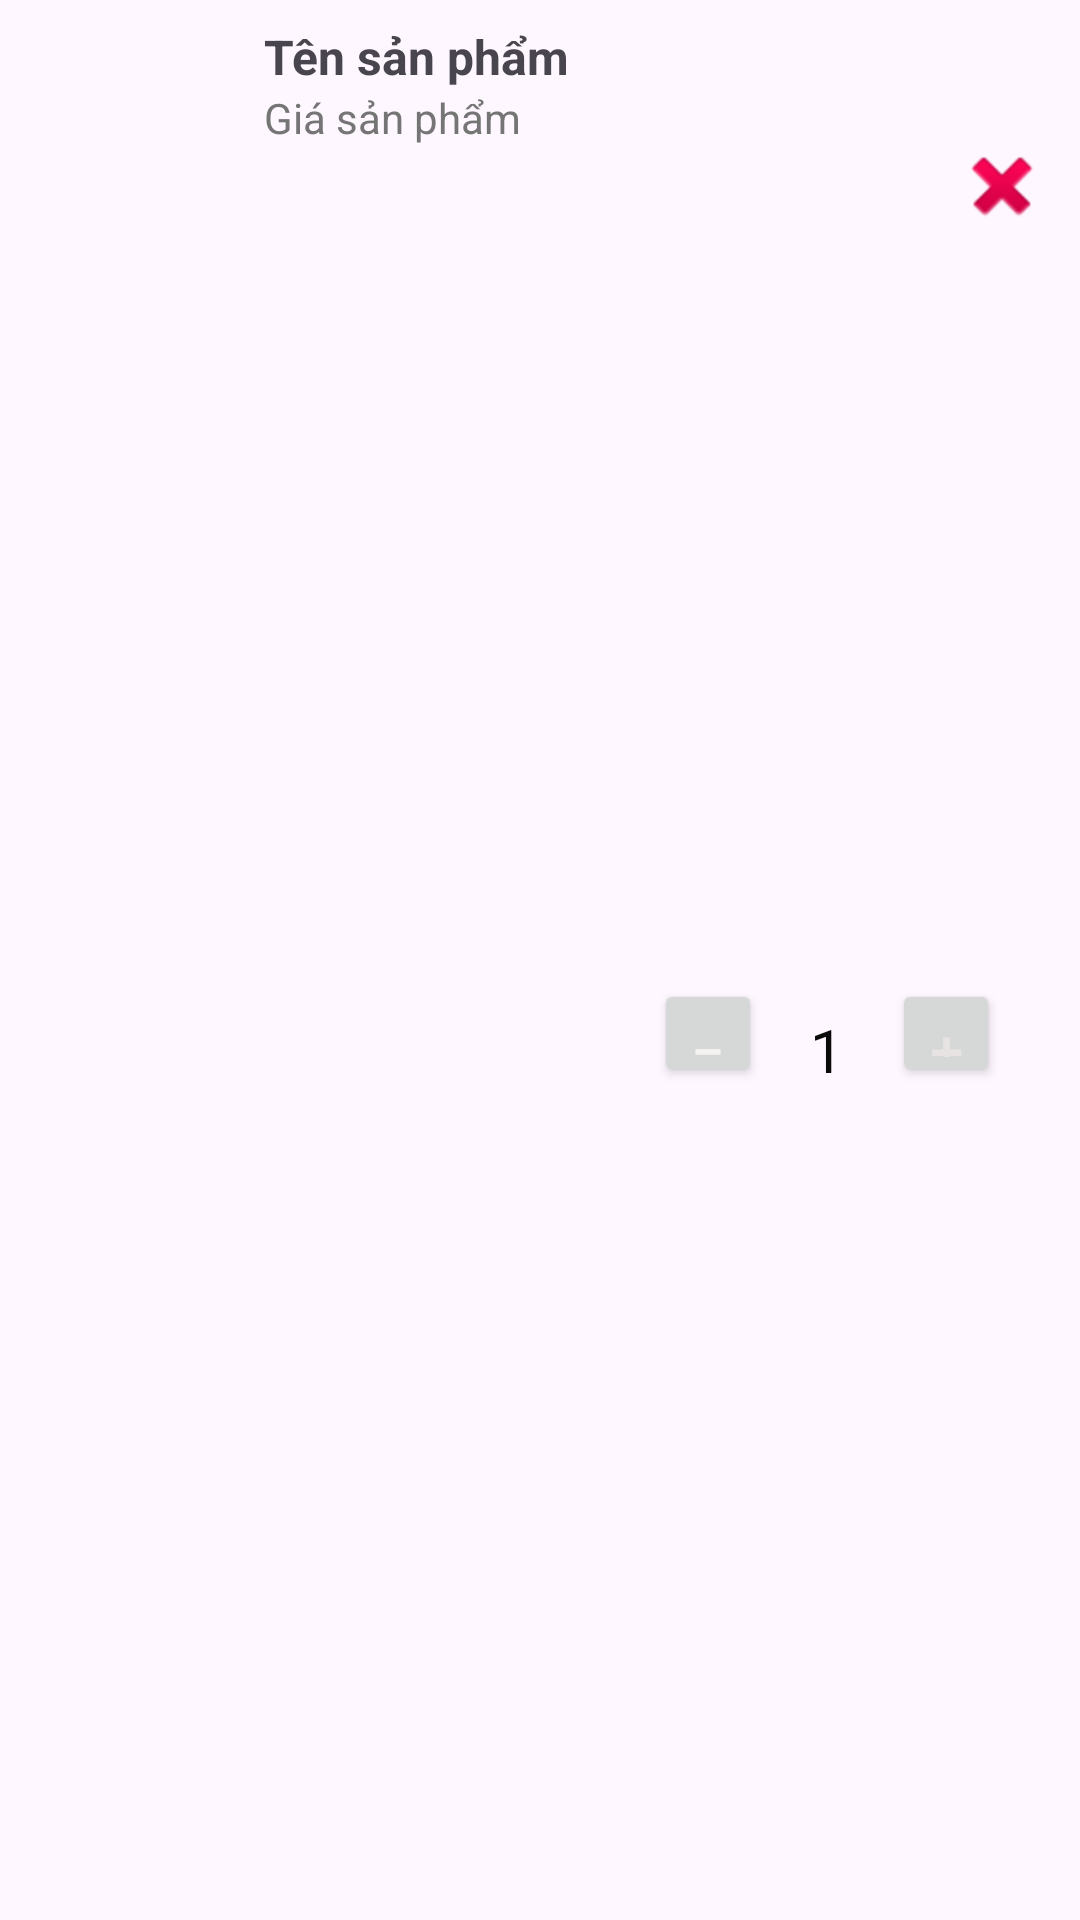

Point at icon controls on the screen. Image size 1080px x 1920px, points as (x,y).
Xóa sản phẩm: (1002,186)
